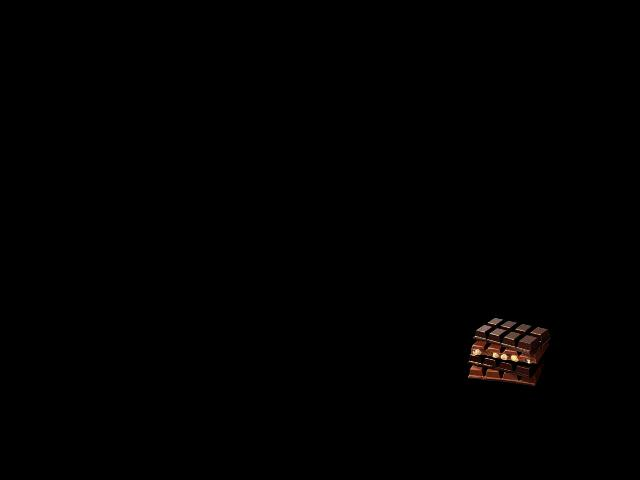chocolate: (468, 317, 545, 389)
